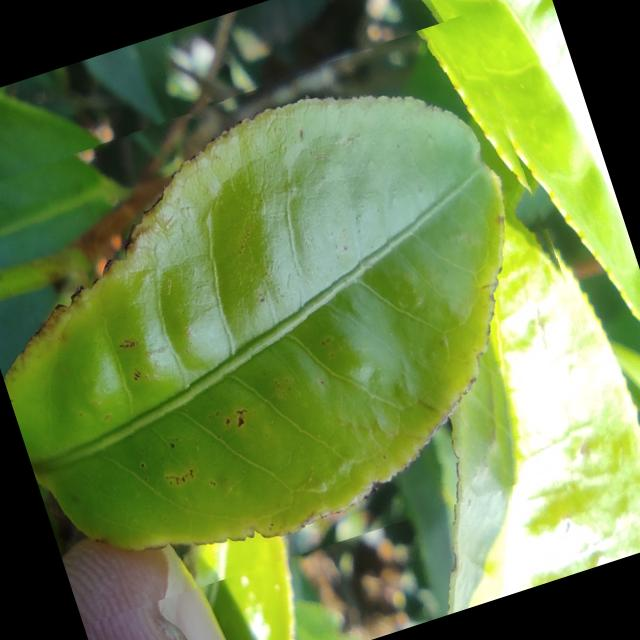Category C(4-7 days): (0, 7, 628, 625)
